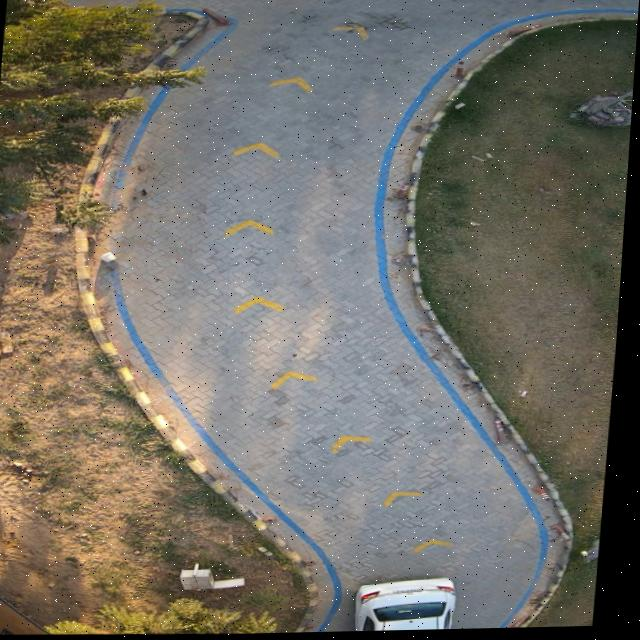car: (361, 579, 465, 633)
